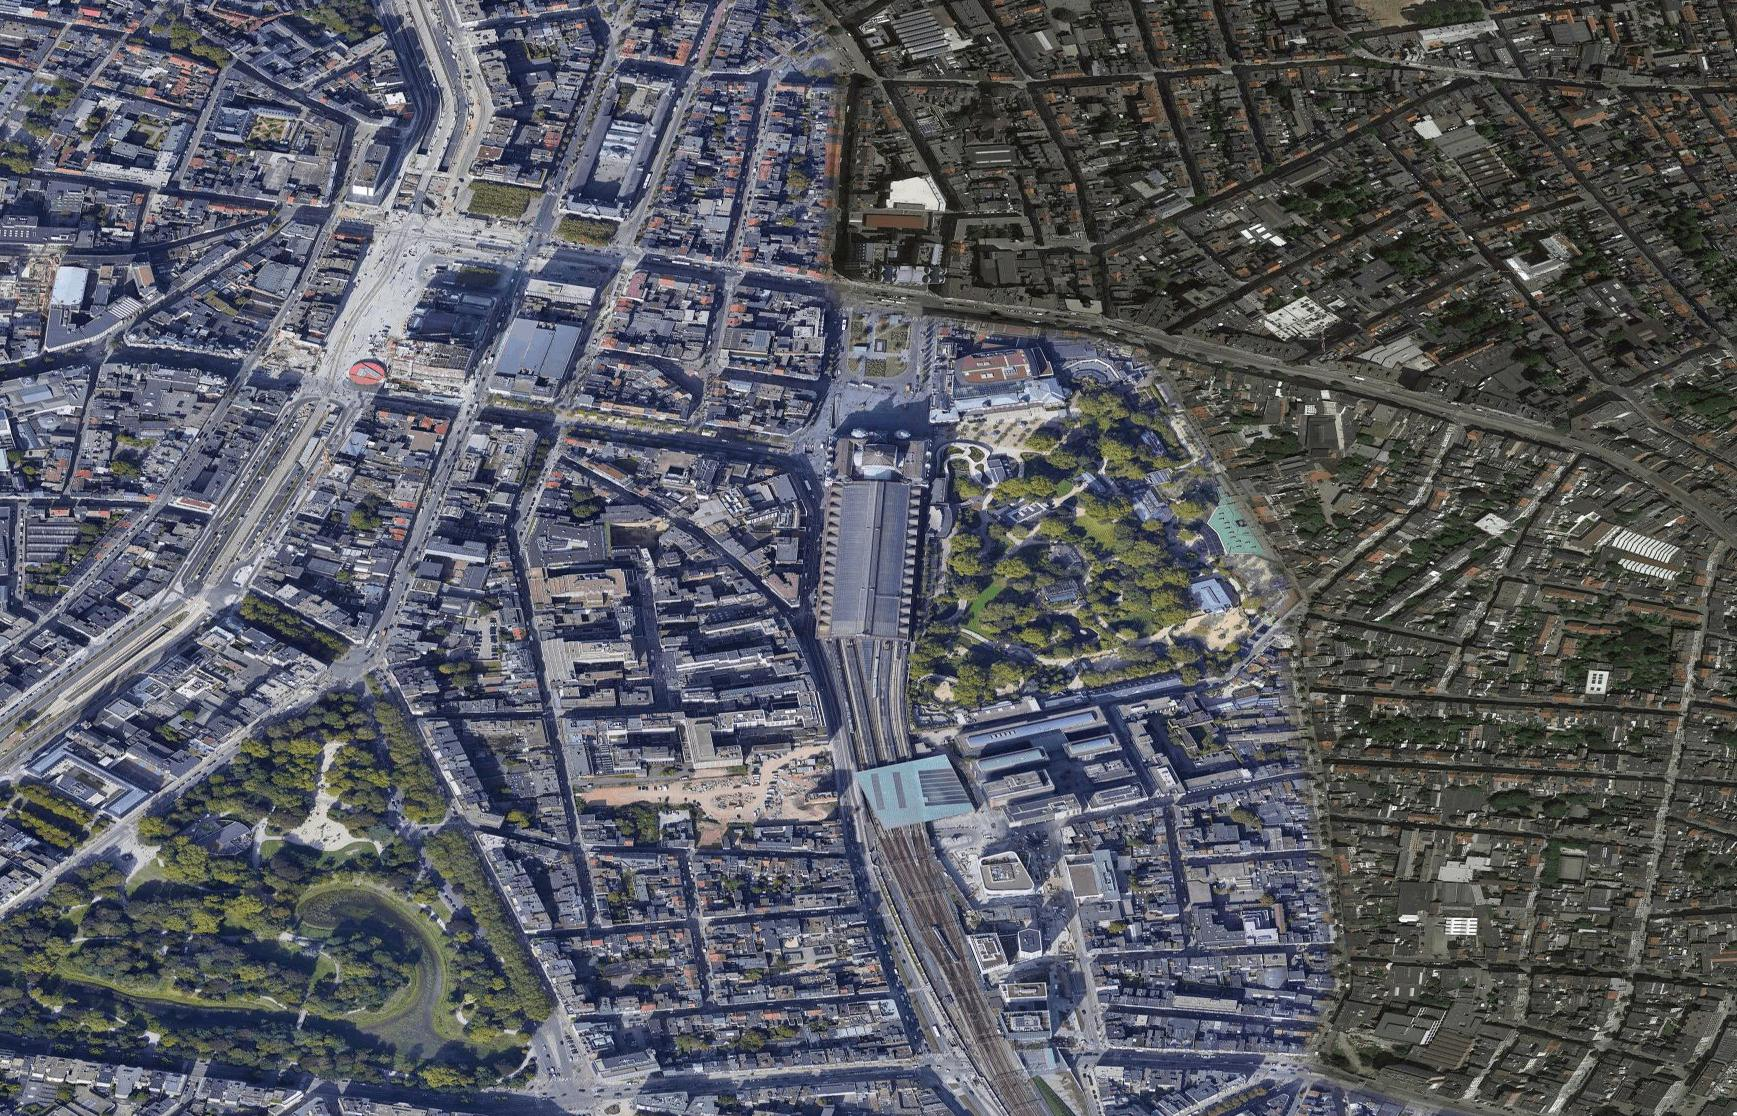train_station: (804, 410, 943, 661)
